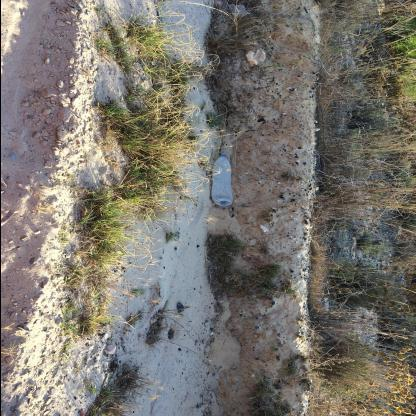plastik: (211, 154, 233, 208)
